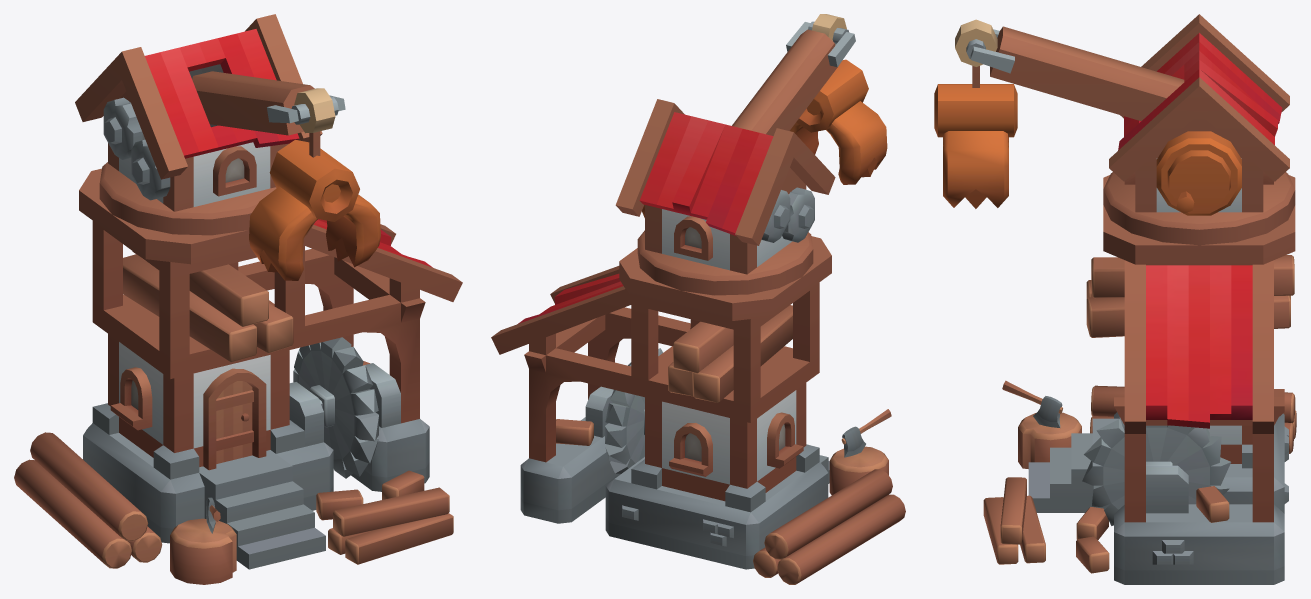
File: k-lumbermill-kaykit.glb
3 renders of one model, left to right at view 1: azimuth 30°, elevation 25°; view 2: azimuth 150°, elevation 25°; view 3: azimuth 270°, elevation 25°, orthographic. The views are drawn at different scales.
Parts seen in each view (by area): view 1: building_lumbermill_red, building_lumbermill_top_red, building_lumbermill_saw_red; view 2: building_lumbermill_red, building_lumbermill_top_red, building_lumbermill_saw_red; view 3: building_lumbermill_red, building_lumbermill_top_red, building_lumbermill_saw_red.
Boxes of the visible parts, x1,y1,x2,y2 form: building_lumbermill_red: [14, 168, 462, 584]; building_lumbermill_top_red: [75, 14, 380, 280]; building_lumbermill_saw_red: [293, 337, 378, 478]; building_lumbermill_red: [491, 236, 905, 584]; building_lumbermill_top_red: [615, 14, 887, 295]; building_lumbermill_saw_red: [605, 348, 662, 474]; building_lumbermill_red: [983, 175, 1296, 584]; building_lumbermill_top_red: [934, 14, 1295, 245]; building_lumbermill_saw_red: [1082, 417, 1231, 525].
Size of the model in its own units: 1.37 by 1.71 by 1.19.
Materials: 1 (1 with a texture image).
